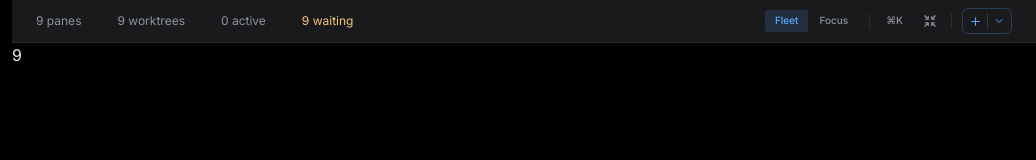
Test: AttentionPeek › rows › counts every hidden pane in the overflow row for a large fleet
This screenshot has width=1036, height=160.
Click the button with test id "resource-attention-stat".
click(328, 21)  # box [302,13,354,29]
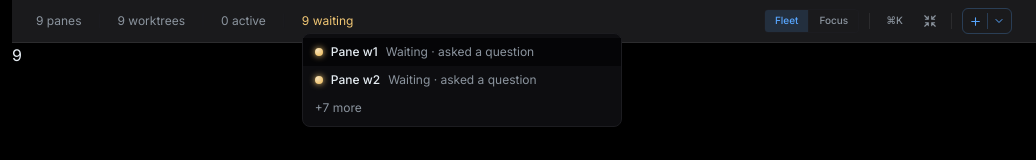
Expected: the menu item with test id "attention-peek-more" reads "+7 more", [303,94,621,122]
